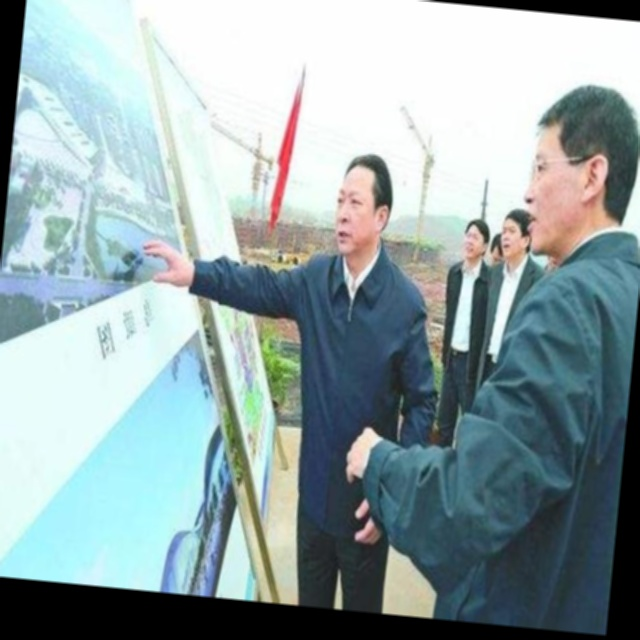Sin_Casco_Mascarrilla: (331, 153, 396, 267)
